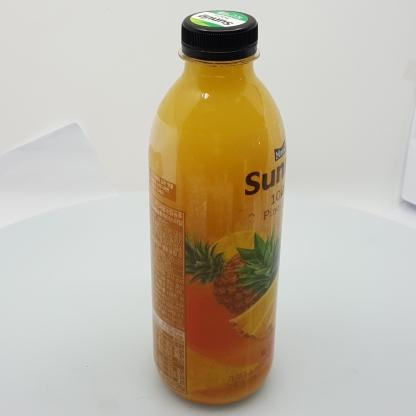----100_----750ML: (148, 9, 286, 406)
